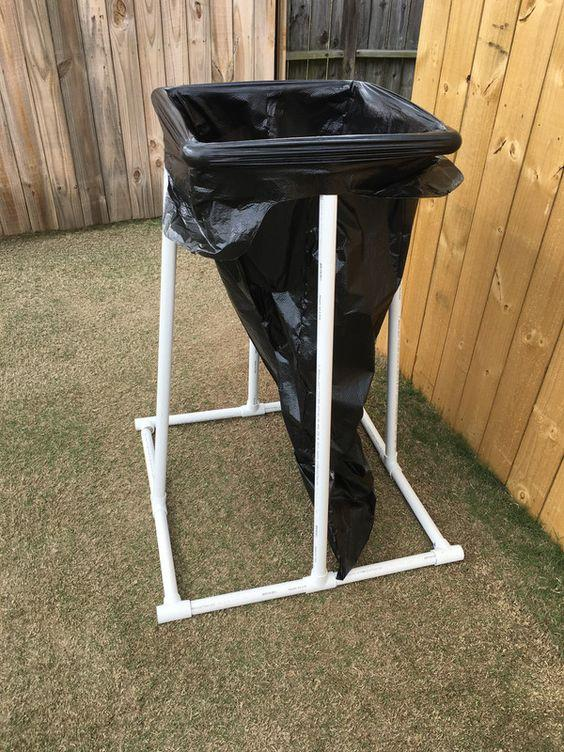LDPE: (149, 78, 464, 254)
PVC: (308, 189, 340, 569), (151, 155, 179, 530), (385, 269, 407, 482), (246, 335, 257, 421)
